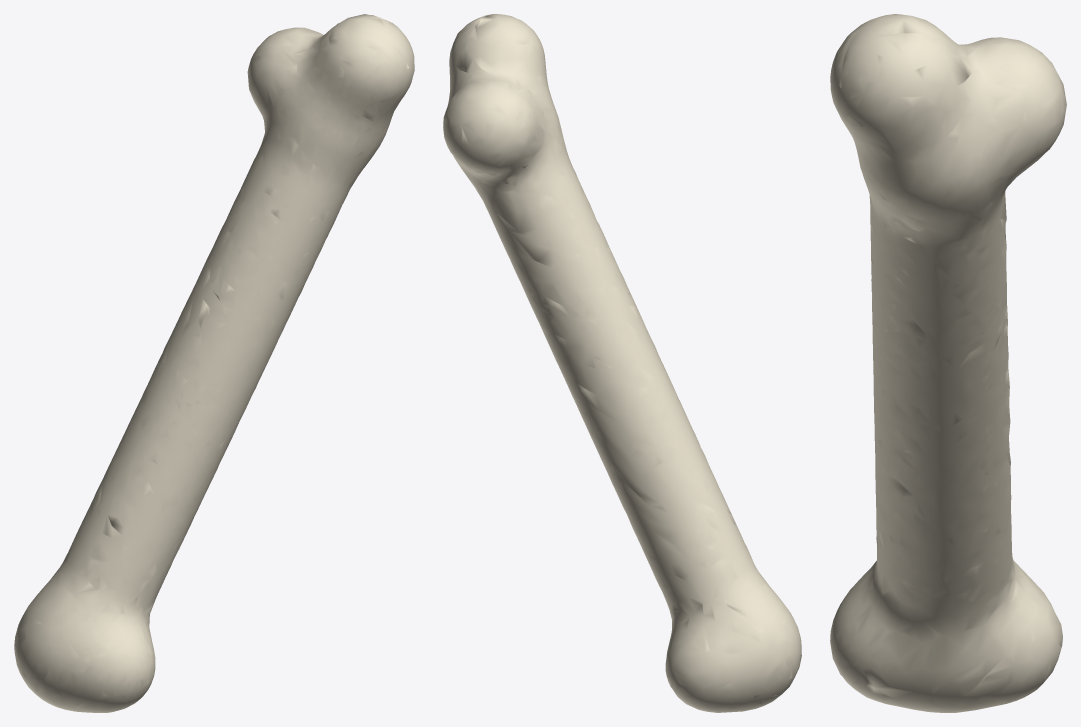
File: femur_l.glb
3 views of the same model, side by side, from view 1: azimuth 30°, elevation 25°; view 2: azimuth 150°, elevation 25°; view 3: azimuth 270°, elevation 25° (orthographic). The views are drawn at different scales.
Parts seen in each view (by area): view 1: geometry_0; view 2: geometry_0; view 3: geometry_0.
Part boxes in pixels (x1=…): geometry_0: x1=14, y1=14, x2=414, y2=712; geometry_0: x1=443, y1=14, x2=801, y2=712; geometry_0: x1=830, y1=14, x2=1066, y2=712.
Bounding box in the file's own units: 0.6001 × 0.9865 × 0.2457.
